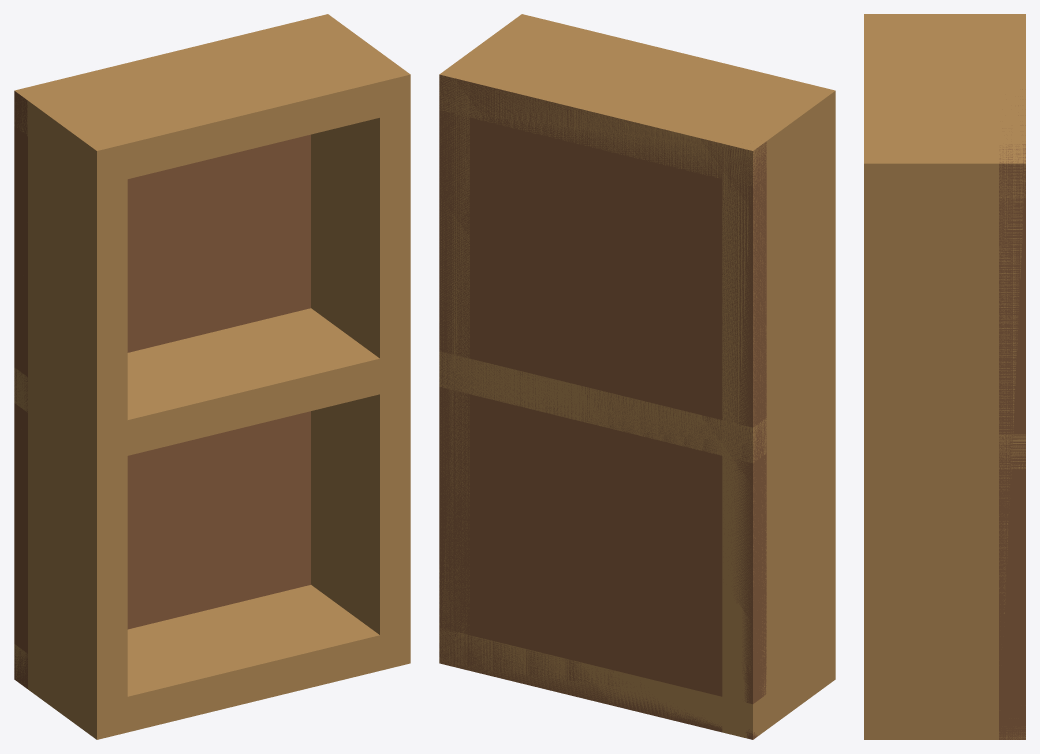
File: basic_shelf.glb
3 renders of one model, left to right at view 1: azimuth 30°, elevation 25°; view 2: azimuth 150°, elevation 25°; view 3: azimuth 270°, elevation 25°, orthographic. The views are drawn at different scales.
Parts seen in each view (by area): view 1: back, upright, upright.001, shelf.002, shelf.001, shelf; view 2: back, upright, shelf.002, shelf.001, shelf, upright.001; view 3: upright.001, shelf.002, back, shelf.001, shelf.
Part boxes in pixels (left/top/right/bottom): back: left=14, top=91, right=310, bottom=688; upright: left=28, top=102, right=127, bottom=737; upright.001: left=311, top=74, right=410, bottom=670; shelf.002: left=14, top=14, right=410, bottom=186; shelf.001: left=14, top=308, right=410, bottom=463; shelf: left=14, top=585, right=410, bottom=739; back: left=439, top=75, right=766, bottom=739; upright: left=722, top=91, right=835, bottom=738; shelf.002: left=439, top=14, right=835, bottom=185; shelf.001: left=439, top=351, right=835, bottom=462; shelf: left=439, top=628, right=835, bottom=736; upright.001: left=439, top=75, right=469, bottom=668; upright.001: left=864, top=149, right=1025, bottom=729; shelf.002: left=864, top=14, right=1025, bottom=198; back: left=999, top=89, right=1025, bottom=739; shelf.001: left=864, top=434, right=1025, bottom=469; shelf: left=864, top=705, right=1025, bottom=739.
Size of the model in its own units: 0.92 by 1.65 by 0.42.
